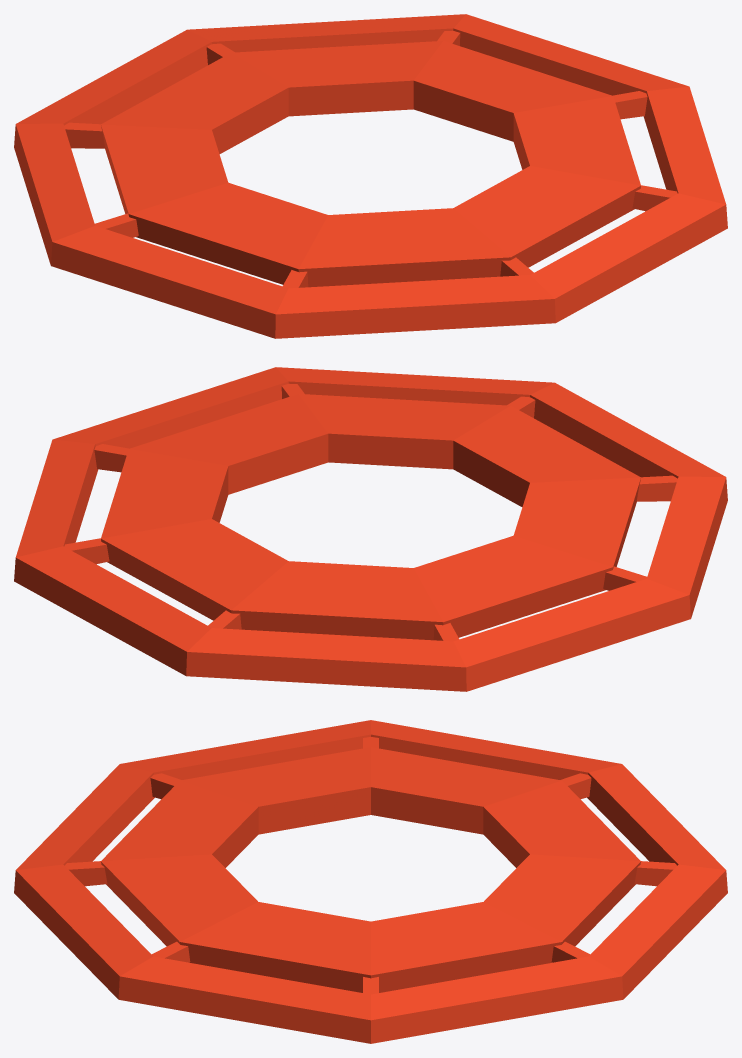
File: SM_Frizbee_A_City.fbx
3 views of the same model, one above another, from view 1: azimuth 30°, elevation 25°; view 2: azimuth 150°, elevation 25°; view 3: azimuth 270°, elevation 25° (orthographic). The views are drawn at different scales.
Parts seen in each view (by area): view 1: SM_Frizbee_A_City; view 2: SM_Frizbee_A_City; view 3: SM_Frizbee_A_City.
Boxes of the visible parts, x1,y1,x2,y2 form: SM_Frizbee_A_City: [14, 14, 727, 338]; SM_Frizbee_A_City: [14, 367, 727, 691]; SM_Frizbee_A_City: [14, 720, 727, 1043].
Size of the model in its own units: 0.281 by 0.0168 by 0.281.
